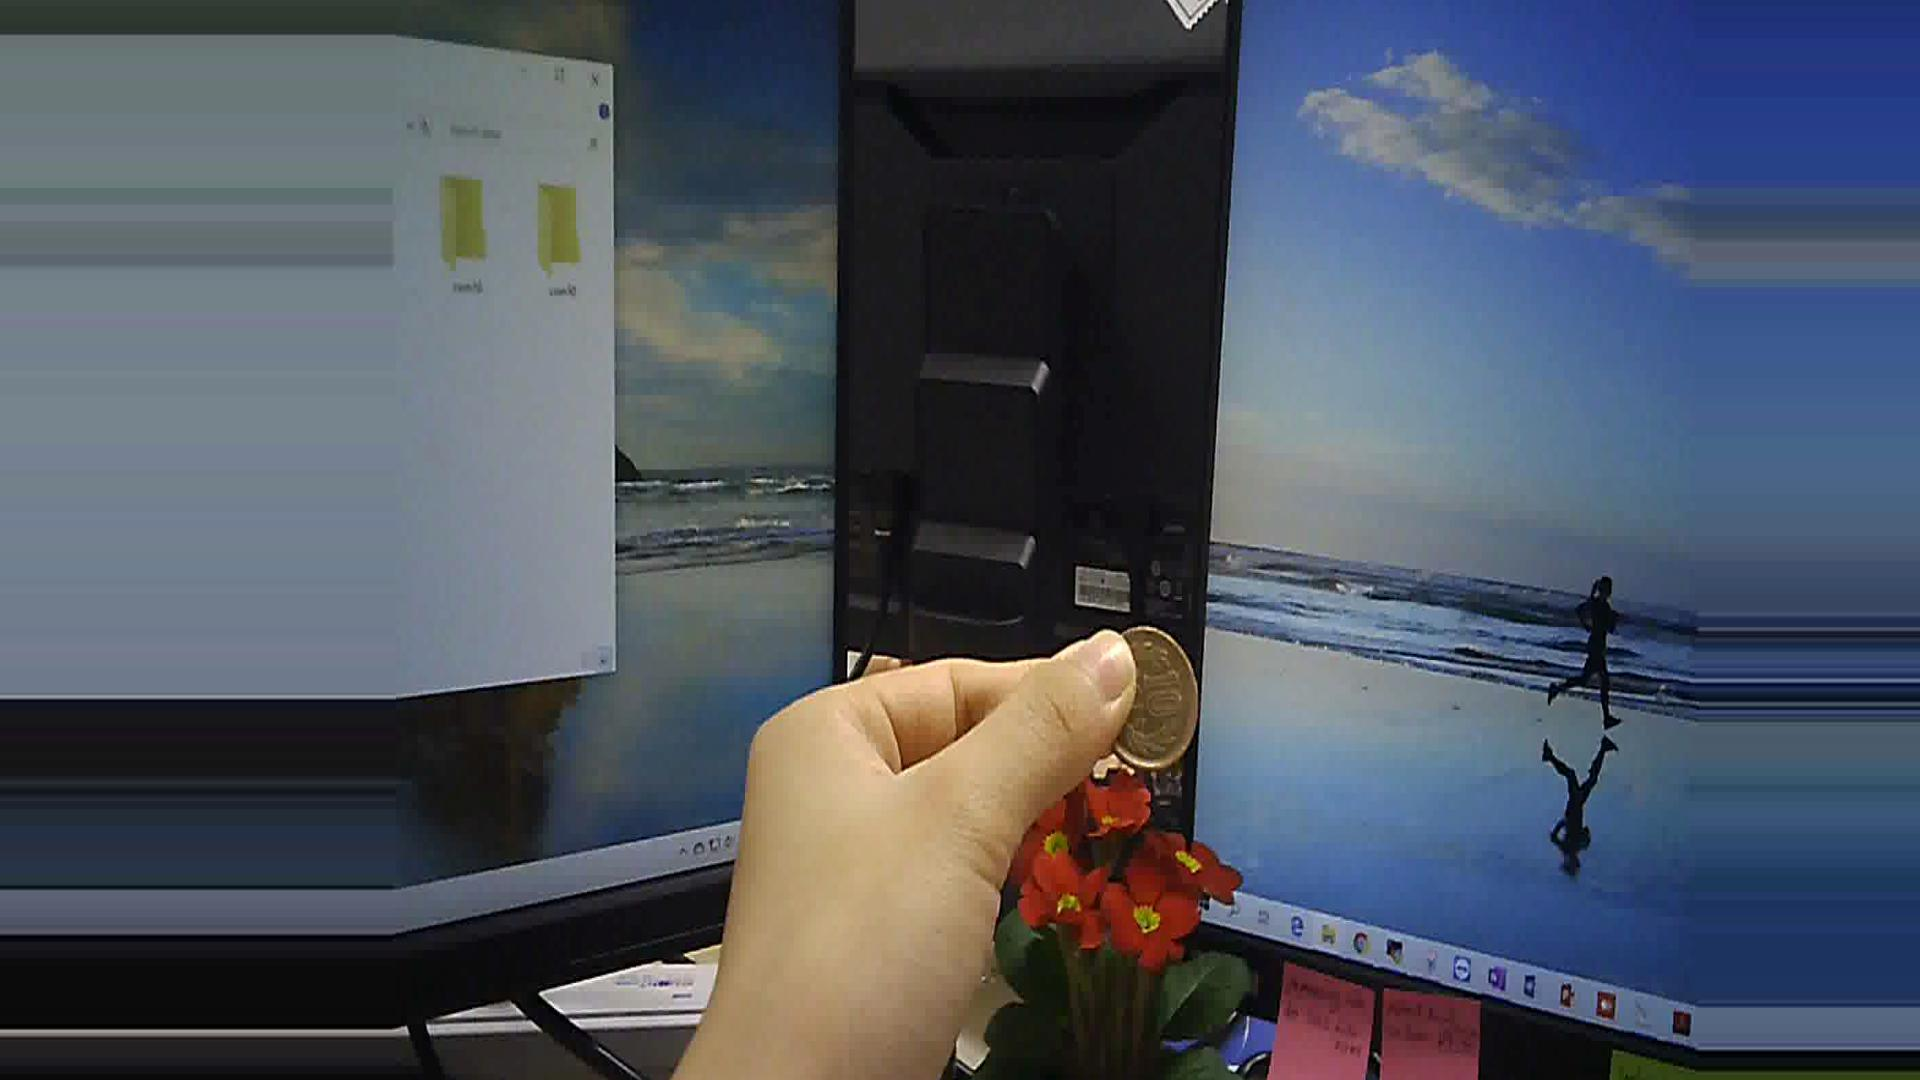10 Yen: (1100, 618, 1208, 771)
